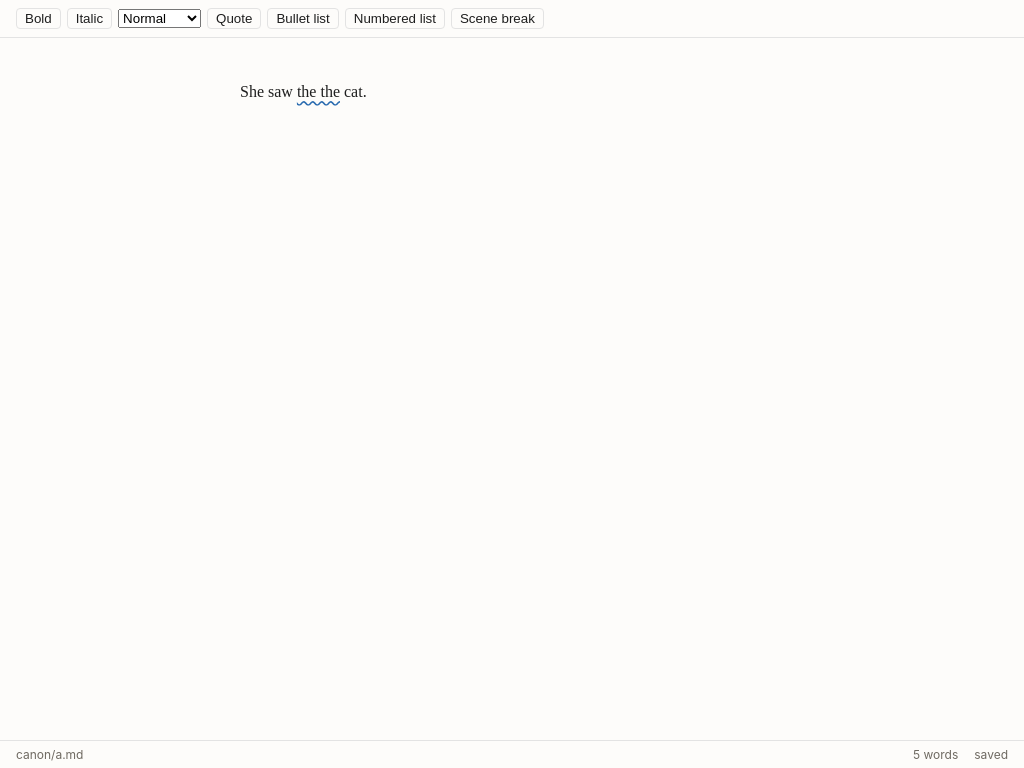
Test: clicking an underline shows the message and fixes; choosing one fixes the text and saves
Click the text box with class "cb-grammar".
click(318, 92)  # box [297,83,340,100]
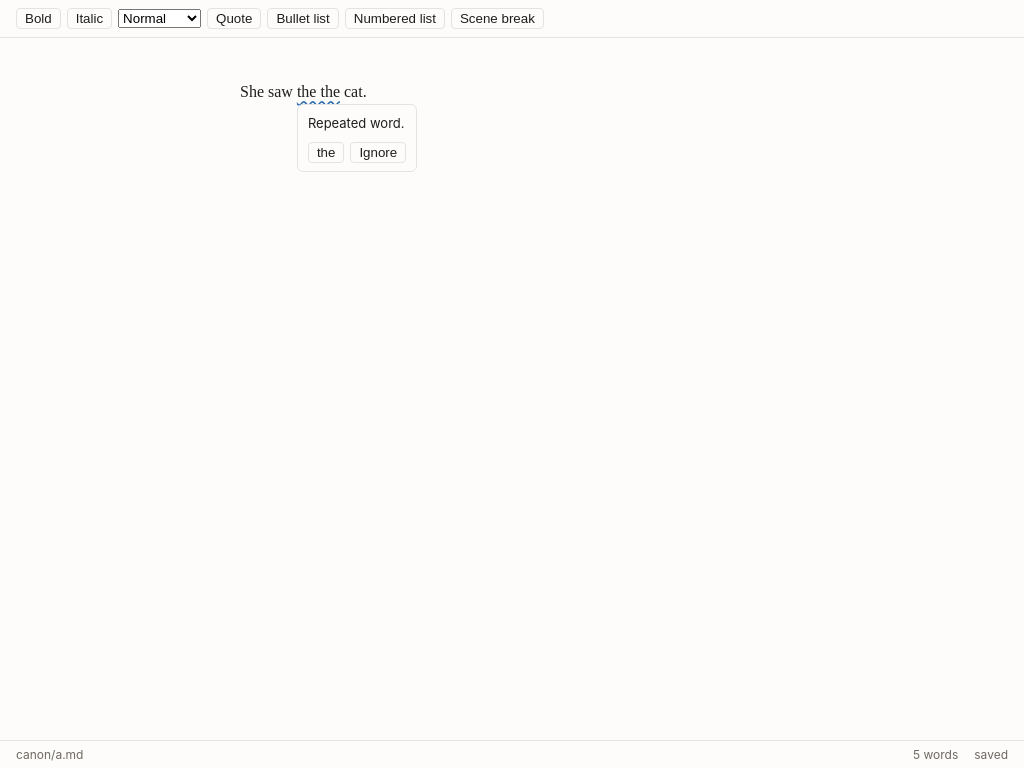
Now the dialog named "Grammar suggestion" shows "Repeated word.", box [308,115,404,131]
Click the button "the".
click(326, 152)  # box [308,142,344,163]
Wait 1000 ms
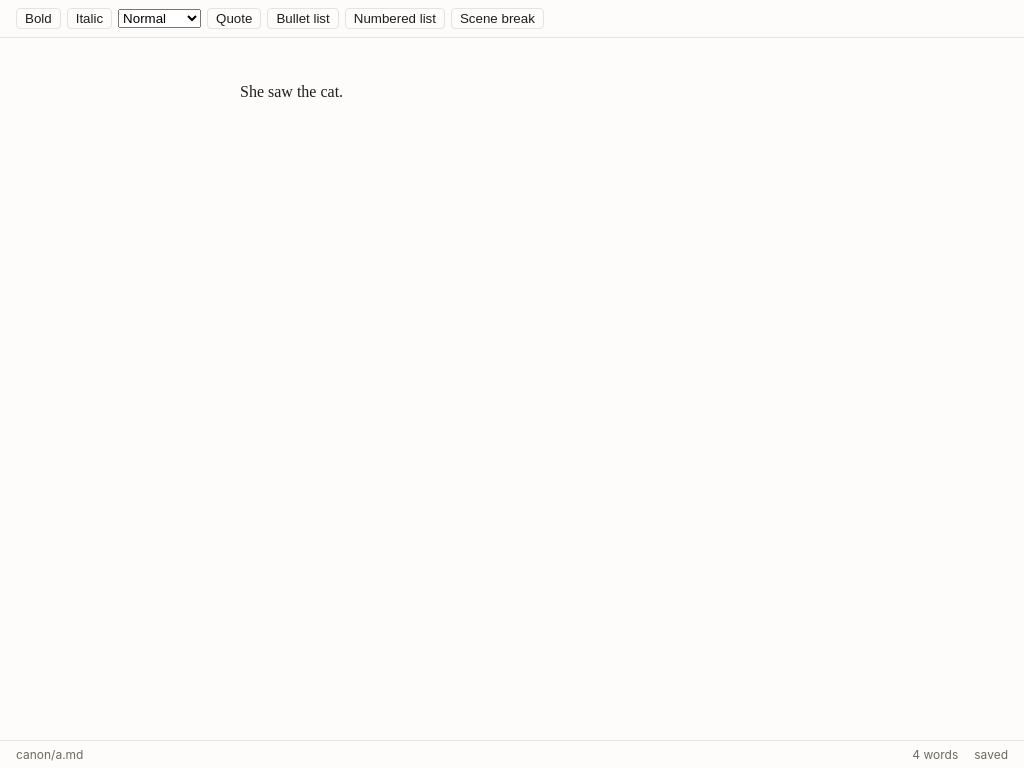
Now the dialog is gone
Now the text box labelled "She saw the cat." is shown, box [240,83,343,100]
